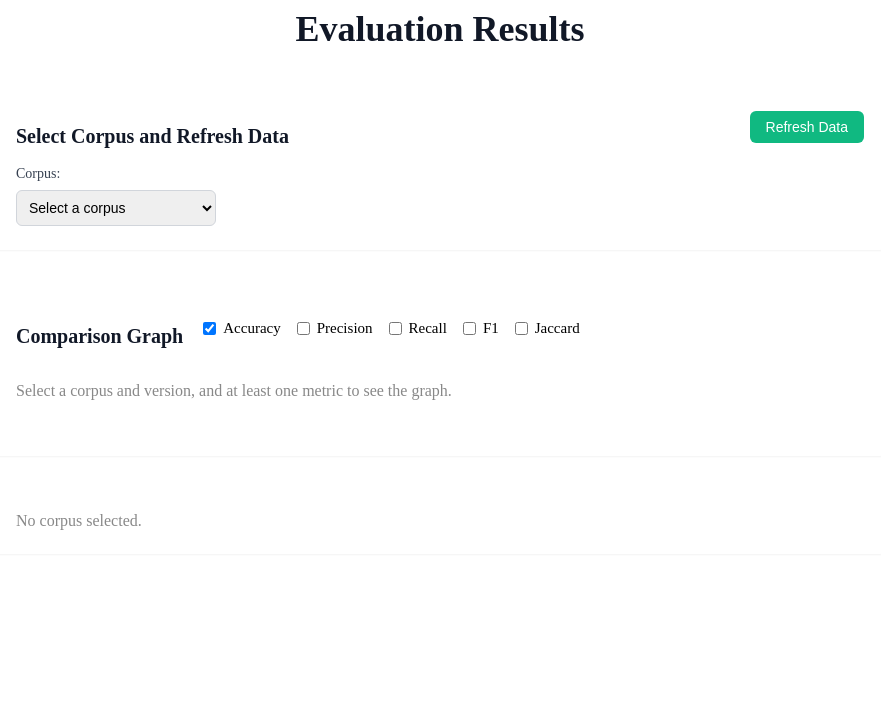
Test: EvaluationPage › shows graph placeholder when no metrics are selected
// Select corpus and version
Select "gold_corpus" in the dropdown showing "Select a corpus": (116, 208) [16,190,216,226]
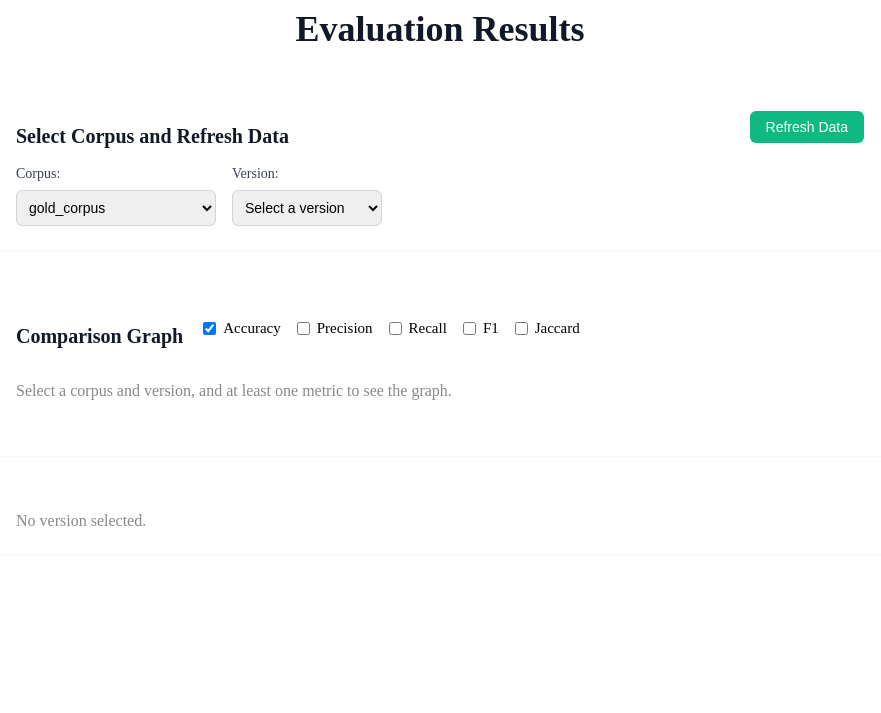
Select "v1.0.0" in the dropdown showing "Select a version" below "Version:": (307, 208) [232,190,382,226]
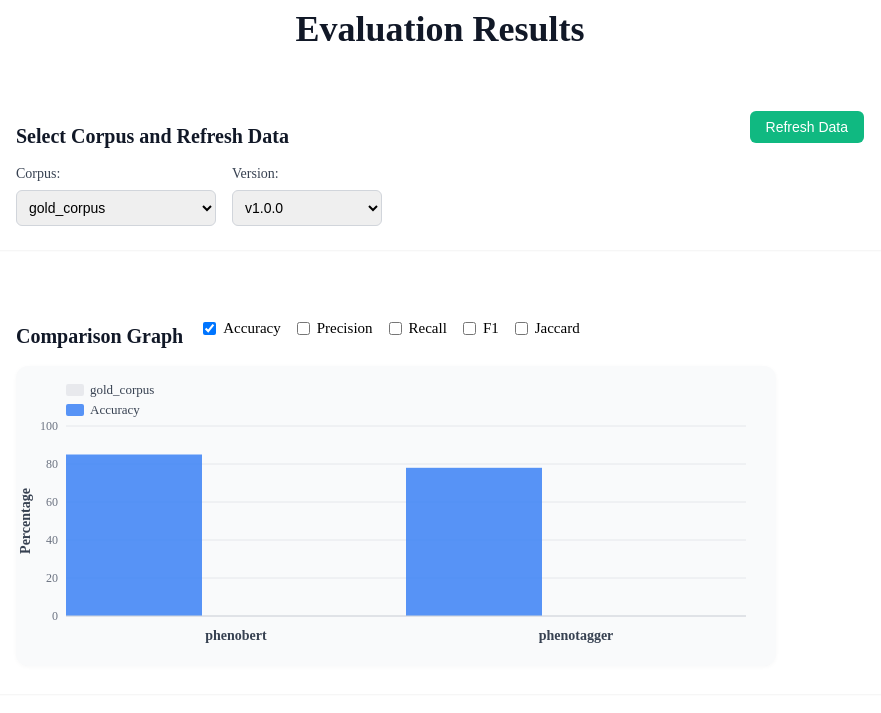
// Uncheck all metrics
Click the checkbox labelled "Accuracy": (210, 328) [203,322,216,334]
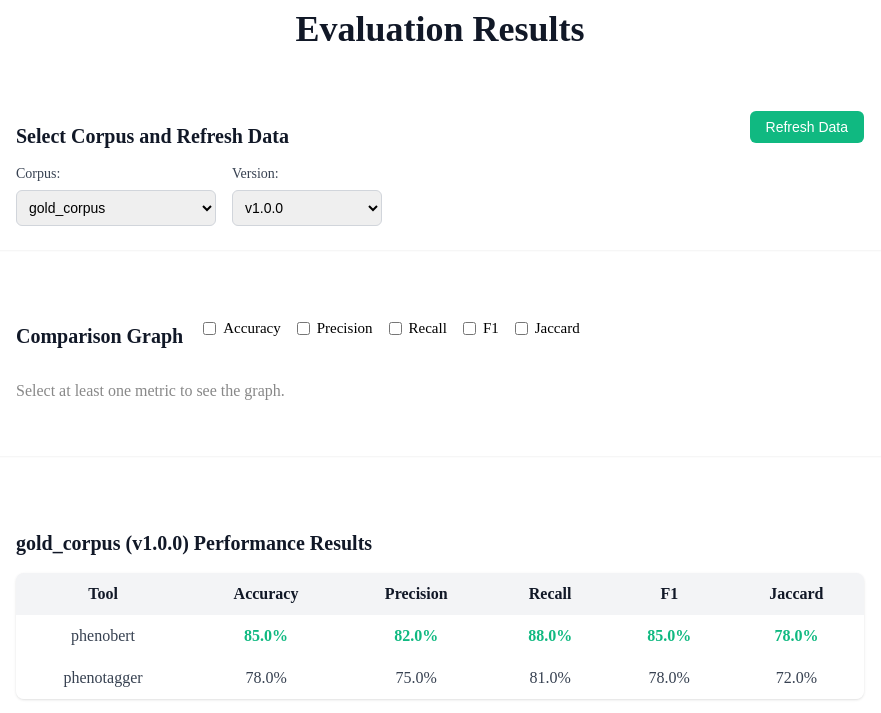
Check: the text "Select at least one metric to see the graph." is shown, box [16,382,285,399]
